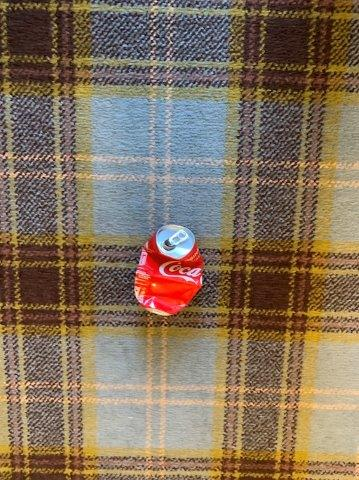kaleng: (134, 226, 202, 317)
